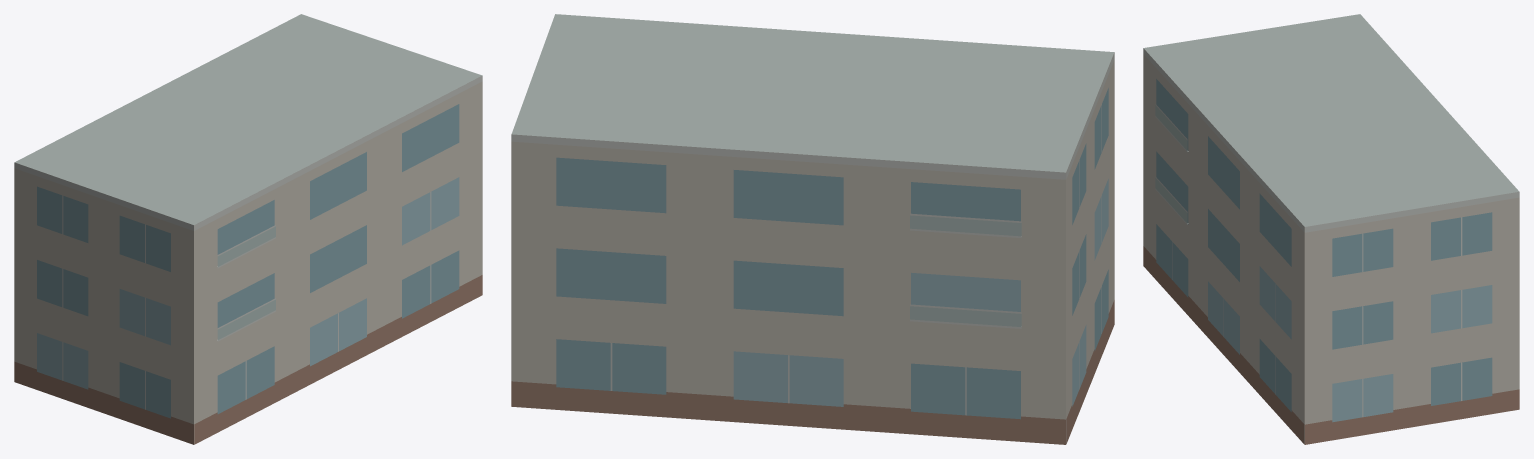
File: survey-upis-32998953.glb
3 renders of one model, left to right at view 1: azimuth 30°, elevation 25°; view 2: azimuth 150°, elevation 25°; view 3: azimuth 270°, elevation 25°, orthographic. The views are drawn at different scales.
Parts seen in each view (by area): view 1: survey-upis-32998953.tmp; view 2: survey-upis-32998953.tmp; view 3: survey-upis-32998953.tmp.
Part boxes in pixels (x1=…): survey-upis-32998953.tmp: x1=14, y1=14, x2=482, y2=444; survey-upis-32998953.tmp: x1=511, y1=14, x2=1114, y2=444; survey-upis-32998953.tmp: x1=1143, y1=14, x2=1519, y2=444.
Bounding box in the file's own units: 19.2 × 9.15 × 14.33.
